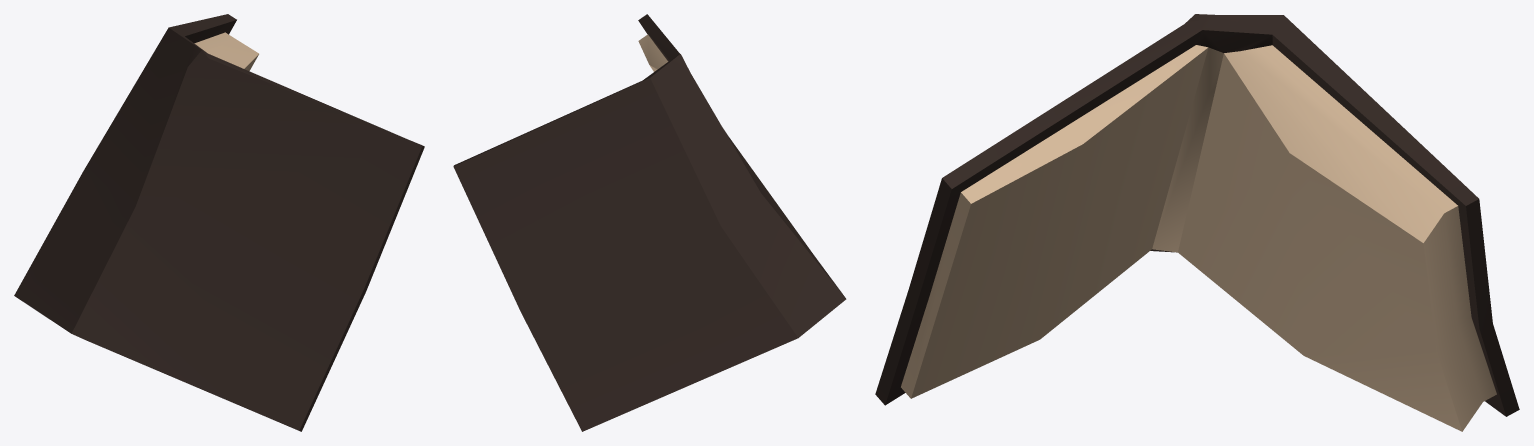
Rendered from Book.fbx.
3 renders of one model, left to right at view 1: azimuth 30°, elevation 25°; view 2: azimuth 150°, elevation 25°; view 3: azimuth 270°, elevation 25°, orthographic. The views are drawn at different scales.
Parts seen in each view (by area): view 1: Book.008; view 2: Book.008; view 3: Book.008.
Part boxes in pixels (x1,y1,x2,y2): Book.008: (14, 14, 424, 431); Book.008: (453, 14, 846, 431); Book.008: (875, 14, 1519, 431).
Bounding box in the file's own units: 22006 × 21546 × 30484.
